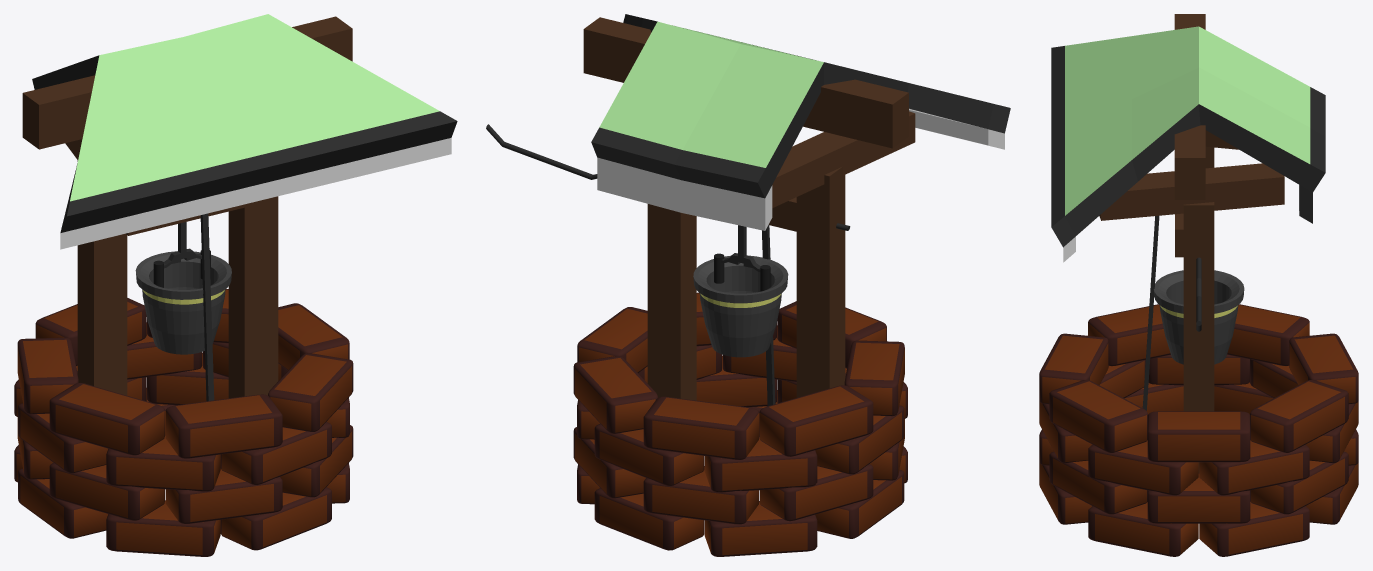
Rendered from well.fbx.
3 views of the same model, side by side, from view 1: azimuth 30°, elevation 25°; view 2: azimuth 150°, elevation 25°; view 3: azimuth 270°, elevation 25° (orthographic). The views are drawn at different scales.
Visible parts, largest first — view 1: Cube; view 2: Cube; view 3: Cube.
Part boxes in pixels (<box>): Cube: <box>14,14,457,556</box>; Cube: <box>486,14,1010,556</box>; Cube: <box>1039,14,1358,556</box>.
Bounding box in the file's own units: 2423 × 2315 × 1572.
